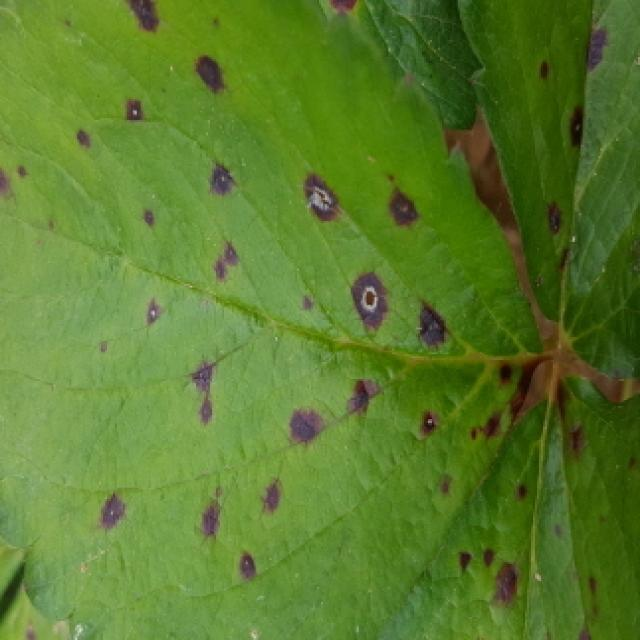Leaf Spot: (376, 373, 640, 640), (457, 0, 640, 380), (313, 0, 481, 131)
